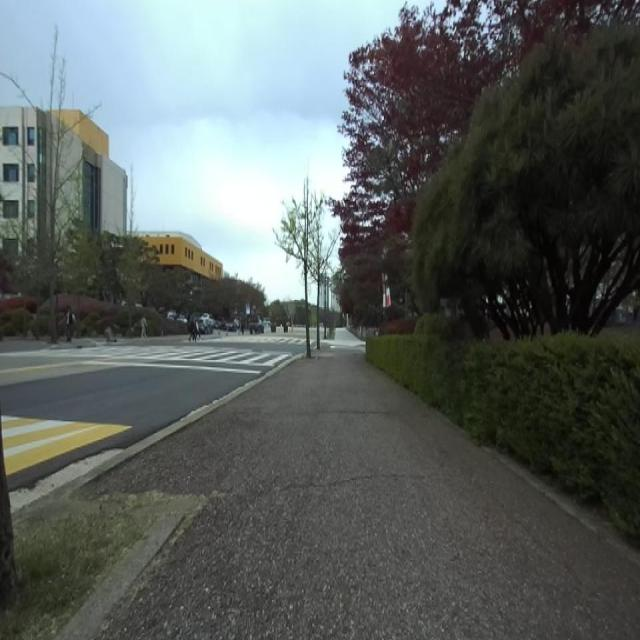sidewalk: (80, 345, 640, 639), (70, 352, 305, 488), (57, 514, 182, 640)
